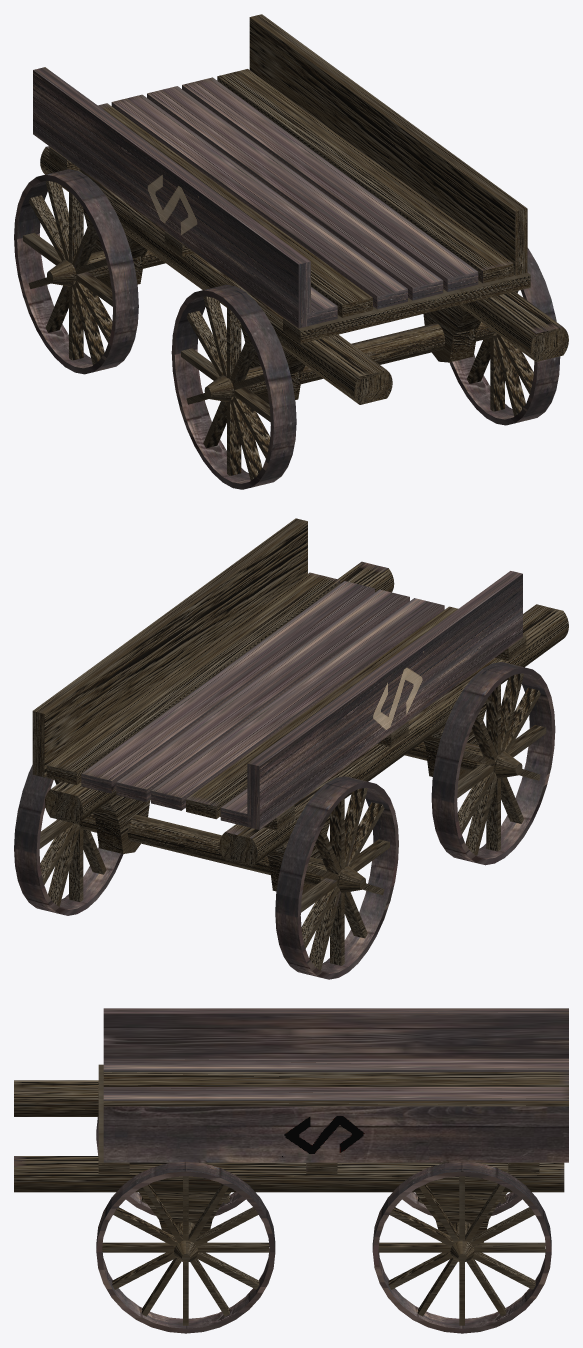
The model's file is cart.fbx.
3 views of the same model, one above another, from view 1: azimuth 30°, elevation 25°; view 2: azimuth 150°, elevation 25°; view 3: azimuth 270°, elevation 25° (orthographic). The views are drawn at different scales.
Parts seen in each view (by area): view 1: cart-final; view 2: cart-final; view 3: cart-final.
Part boxes in pixels (x1,y1,x2,y2): cart-final: (14,14,568,489); cart-final: (14,518,568,979); cart-final: (14,1008,568,1333).
Bounding box in the file's own units: 206 × 153 × 358.
